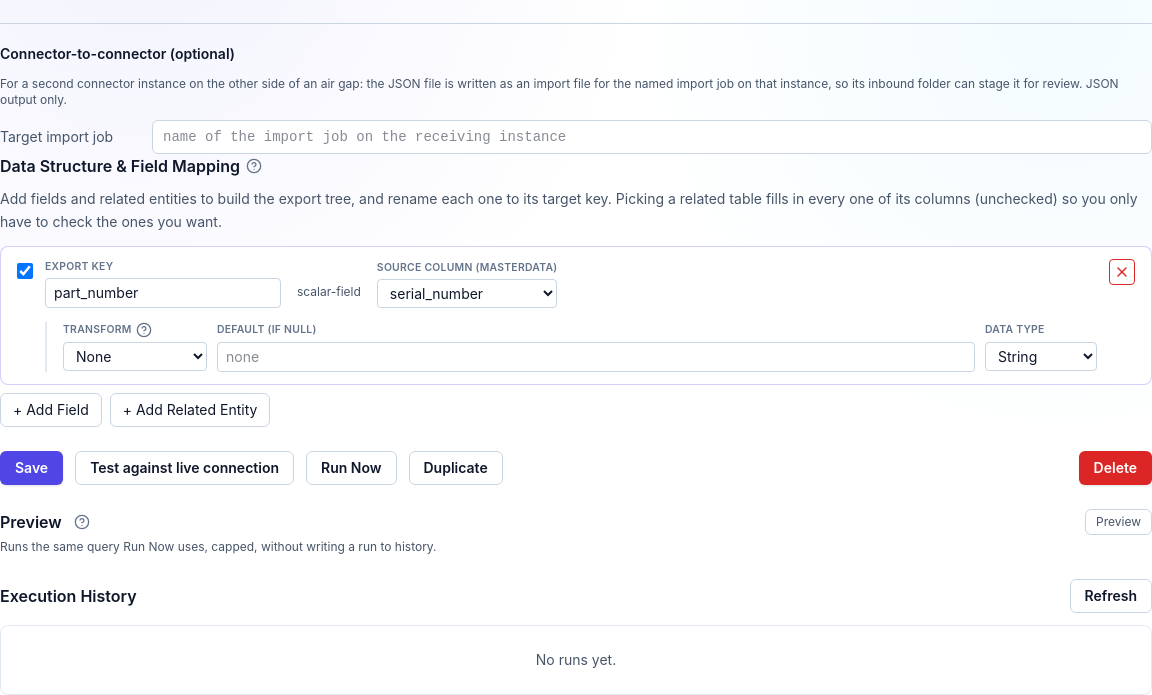
Test: ExportDefinitionEditView › shows the failure detail when a test run fails
(page scrolled)
Click the button "Test against live connection": (185, 468) [75,451,294,485]
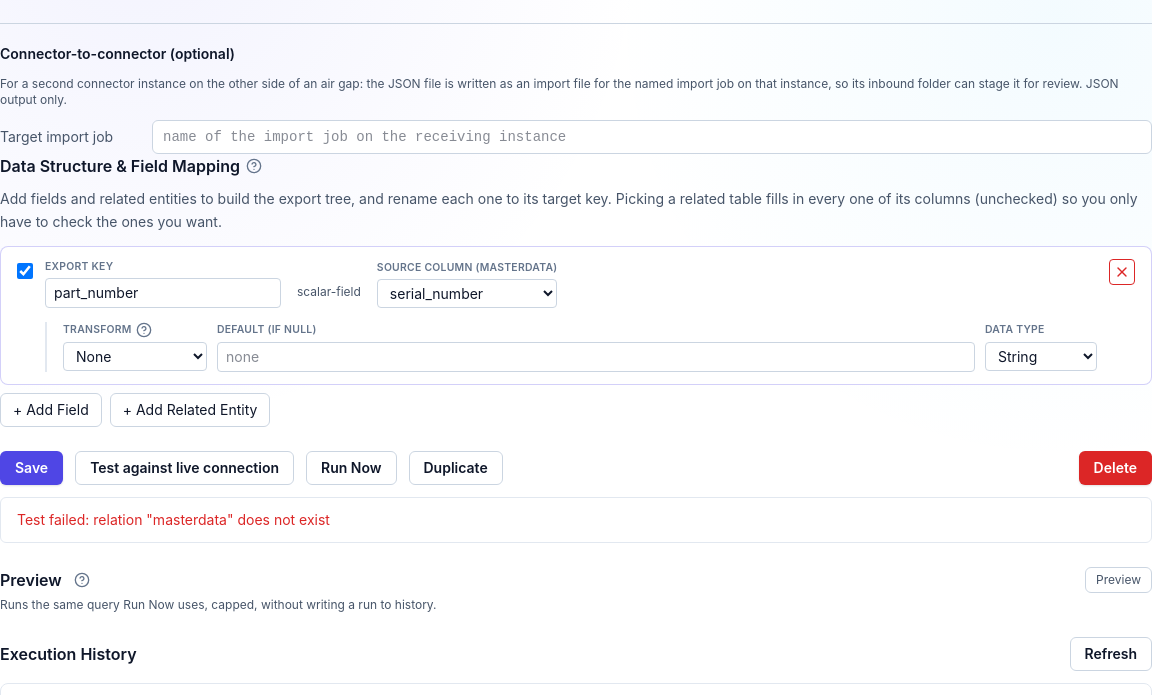
Now the text "relation \"masterdata\" does not exist" is shown, box [17,511,330,528]
